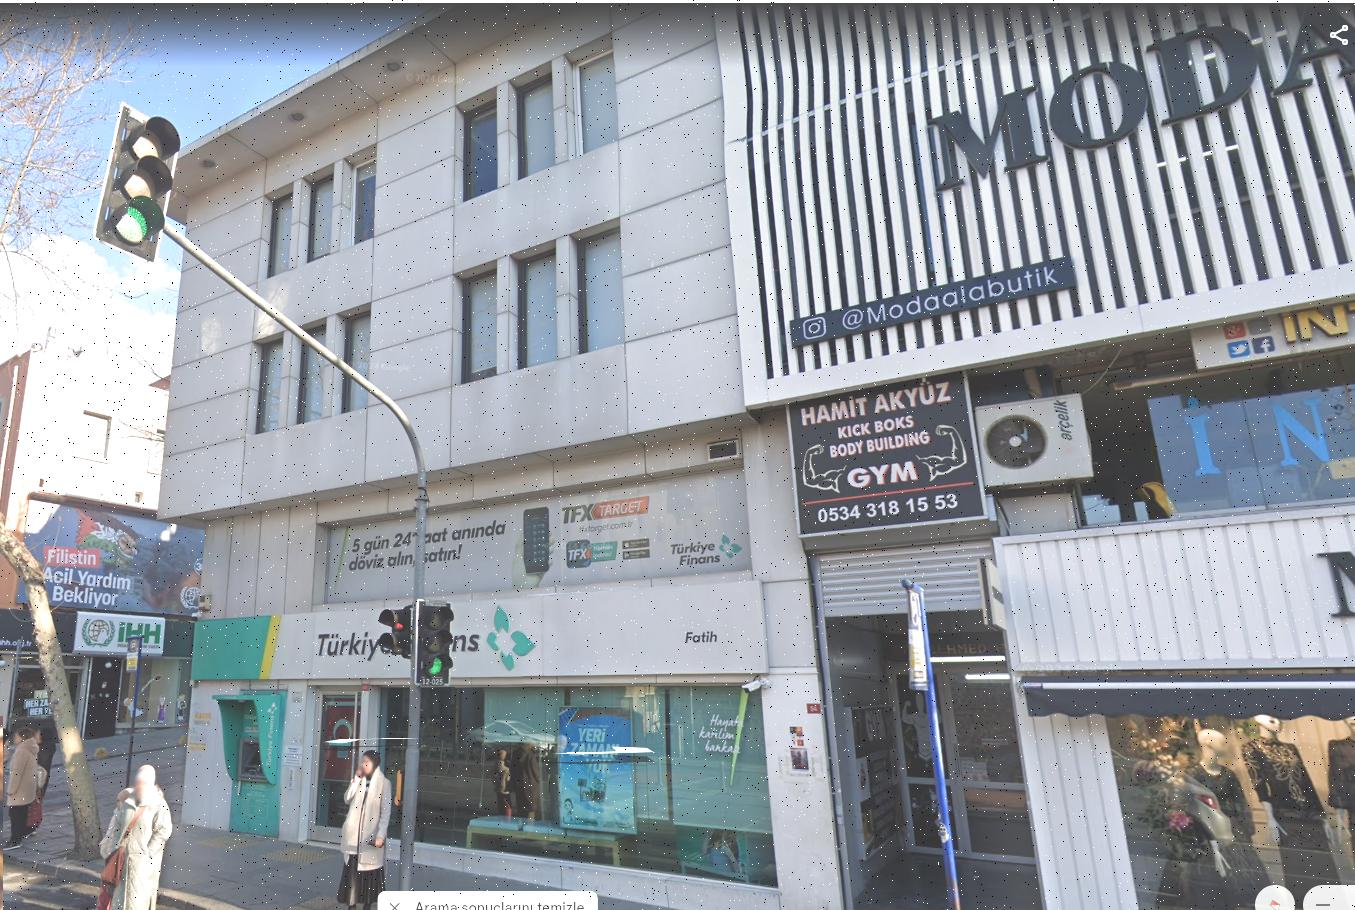greenlight: (122, 113, 159, 248), (418, 601, 455, 678)
